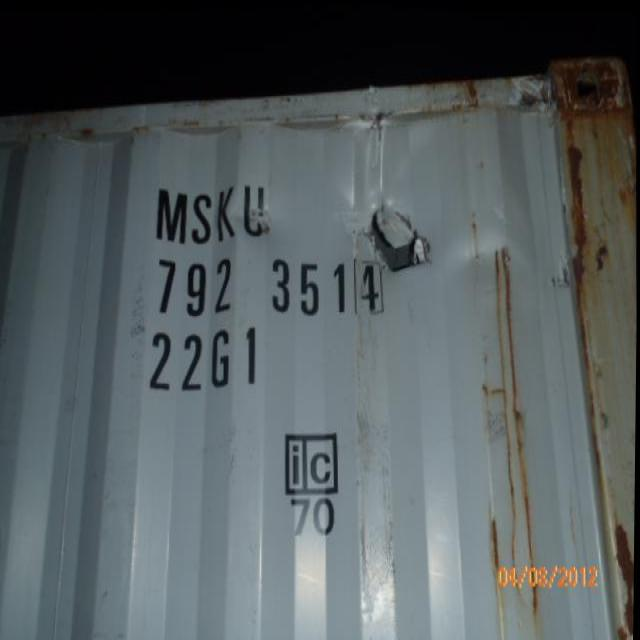hole: (362, 197, 437, 269)
